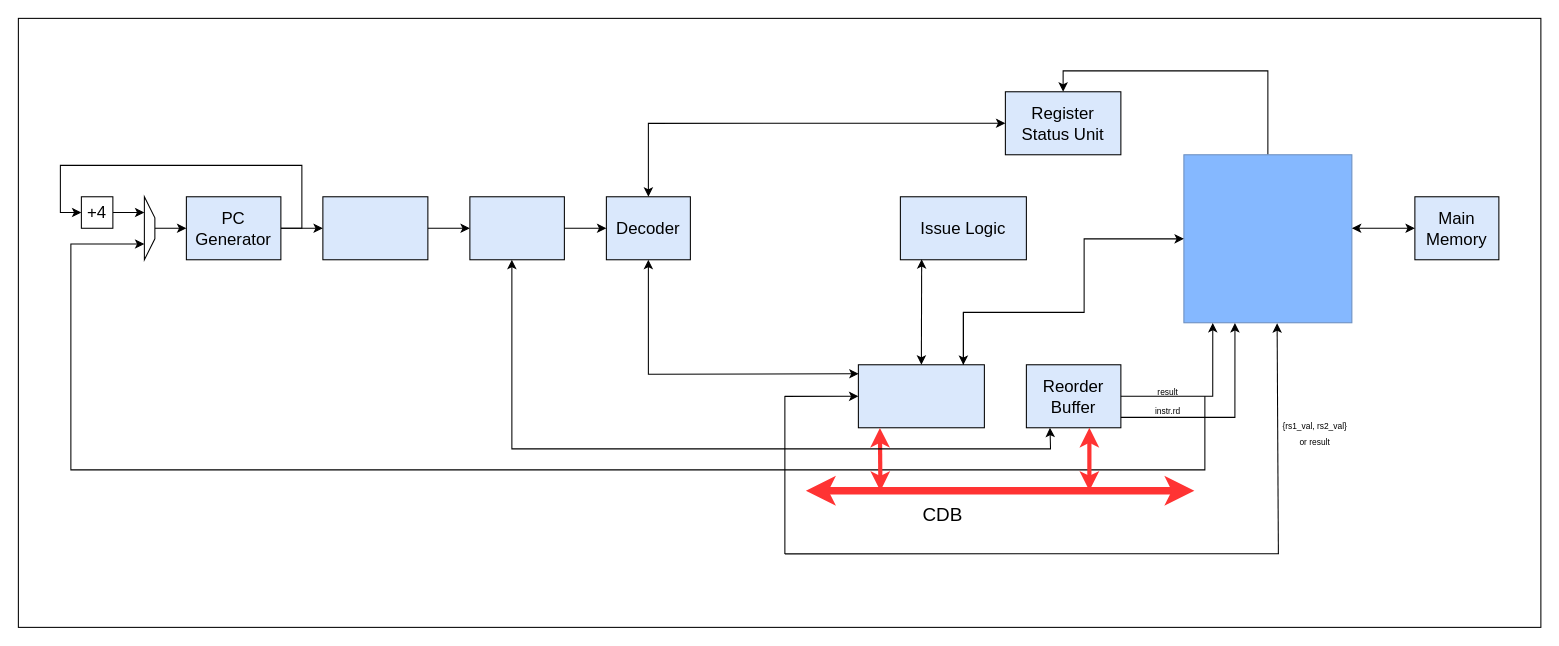
Some shapes in this 1559 by 646 pixel diagram are drawn without their labels. The centre of each missing label's shape, as x and y in pixels:
Black Box: pixel 1267 238
Instruction Buffer: pixel 516 228
Instruction Memory: pixel 375 228
Reservation Station: pixel 920 396
